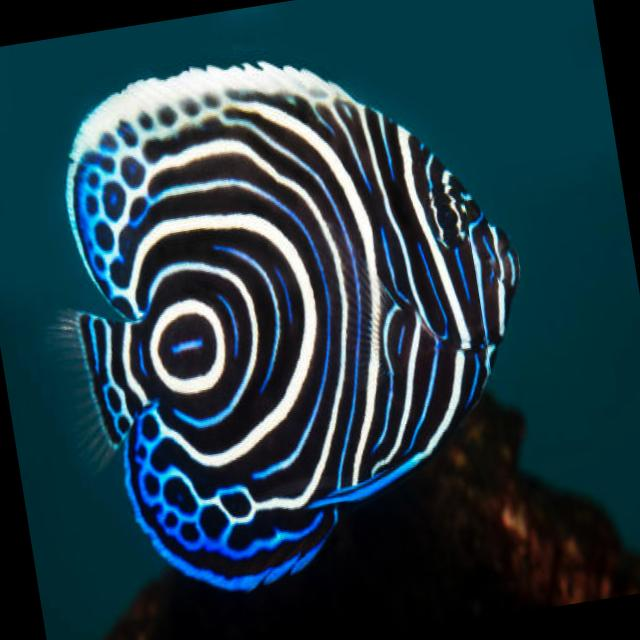AngelFish: (14, 16, 564, 628)
